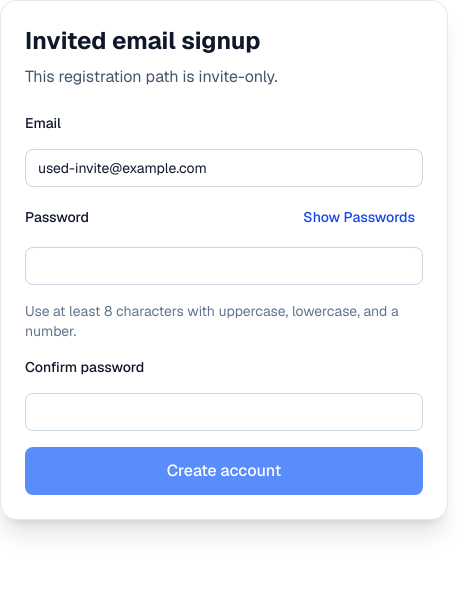
Test: InviteEmailSignupForm › shows invite-already-used error
Step 1. Type "Secret123" into the password field labelled "Password" → [224, 266], box [25, 247, 423, 285]
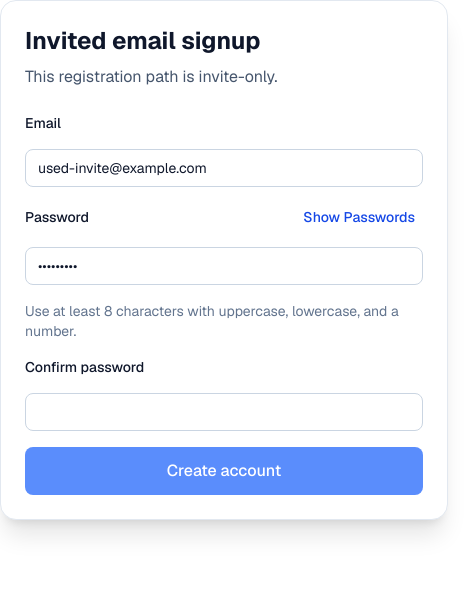
Step 2. Type "Secret123" into the password field labelled "Confirm password" → [224, 412], box [25, 393, 423, 431]
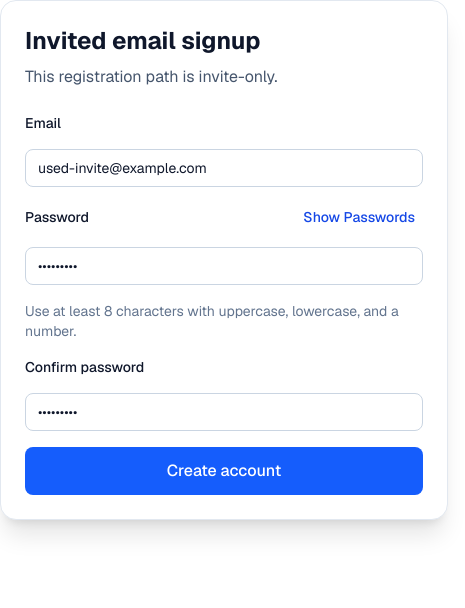
Step 3. Click the button "Create account" → [224, 471], box [25, 447, 423, 495]
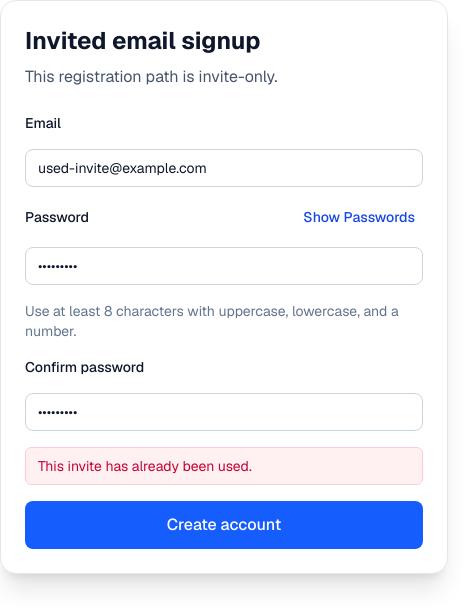
Result: the text "This invite has already been used." is shown at [25, 447, 423, 485]
